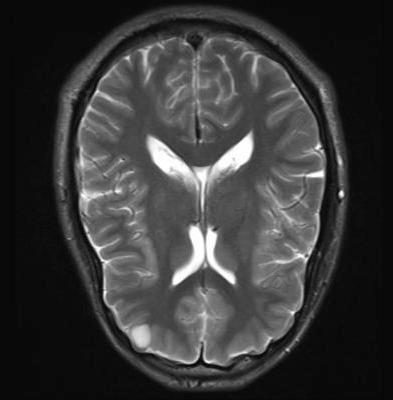Normal_Brain: (34, 16, 393, 400)
